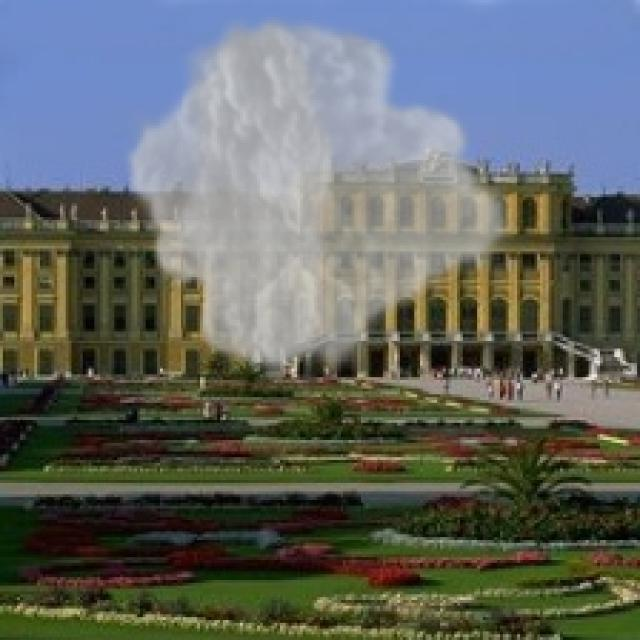Smoke: (122, 8, 518, 380)
